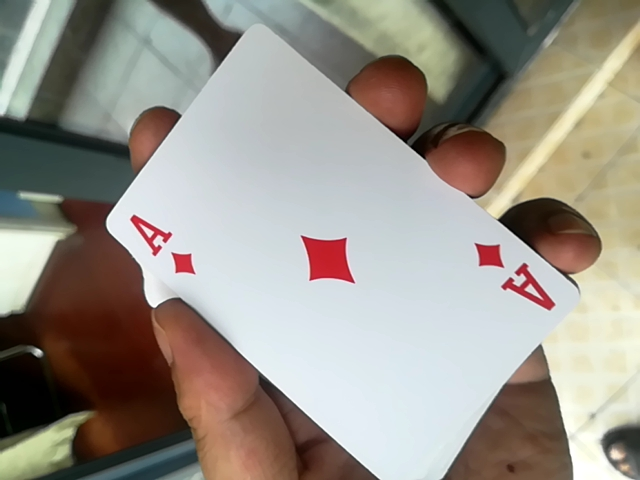fk a: (98, 8, 564, 474)
